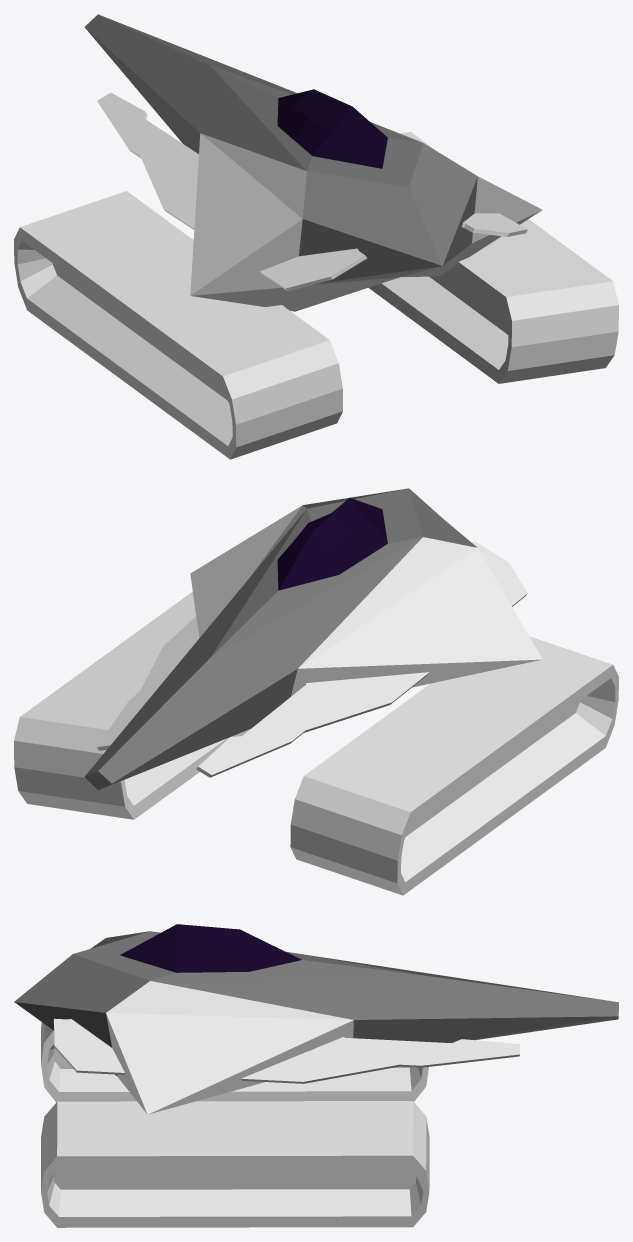
The model's file is 494_player_v4.fbx.
3 views of the same model, one above another, from view 1: azimuth 30°, elevation 25°; view 2: azimuth 150°, elevation 25°; view 3: azimuth 270°, elevation 25° (orthographic). The views are drawn at different scales.
Parts seen in each view (by area): view 1: Tread.001, Hull.003, Wings.003; view 2: Tread.001, Hull.003, Wings.003; view 3: Tread.001, Hull.003, Wings.003.
Part boxes in pixels (box(x1,y1,x2,y2)): Tread.001: box(14, 132, 618, 459); Hull.003: box(84, 14, 542, 311); Wings.003: box(97, 92, 527, 291); Tread.001: box(14, 591, 618, 895); Hull.003: box(84, 488, 542, 790); Wings.003: box(97, 541, 527, 777); Tread.001: box(41, 1022, 429, 1227); Hull.003: box(14, 924, 618, 1114); Wings.003: box(53, 968, 519, 1083).
Size of the model in its own units: 80.03 by 49.78 by 122.
